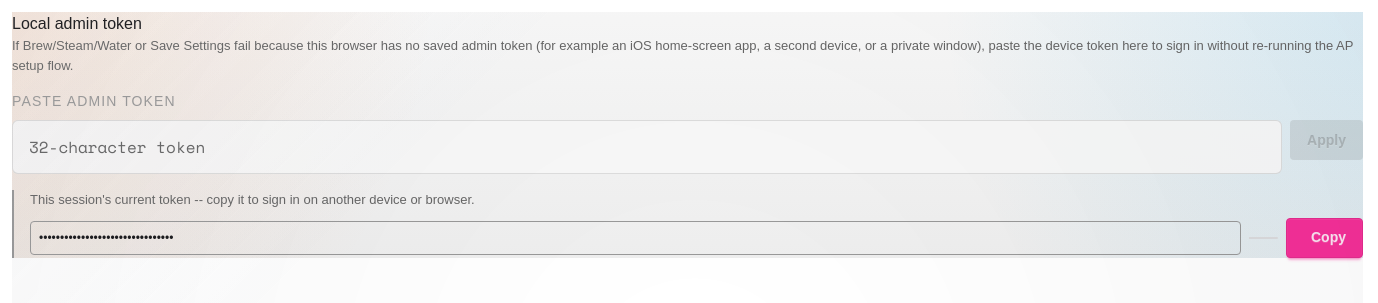
it: LocalAuthRecoveryCard › shows a fallback alert (and no success) when navigator.clipboard is unavailable
The width and height of the screenshot is (1378, 303).
Click the button "Copy": point(1324, 238) [1286,218,1363,258]
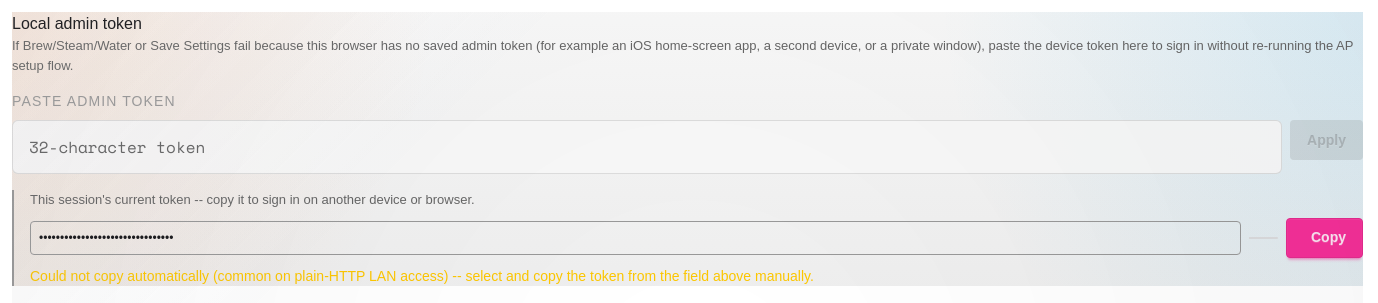
Now the message shows "Could not copy automatically", box [30,268,814,284]
